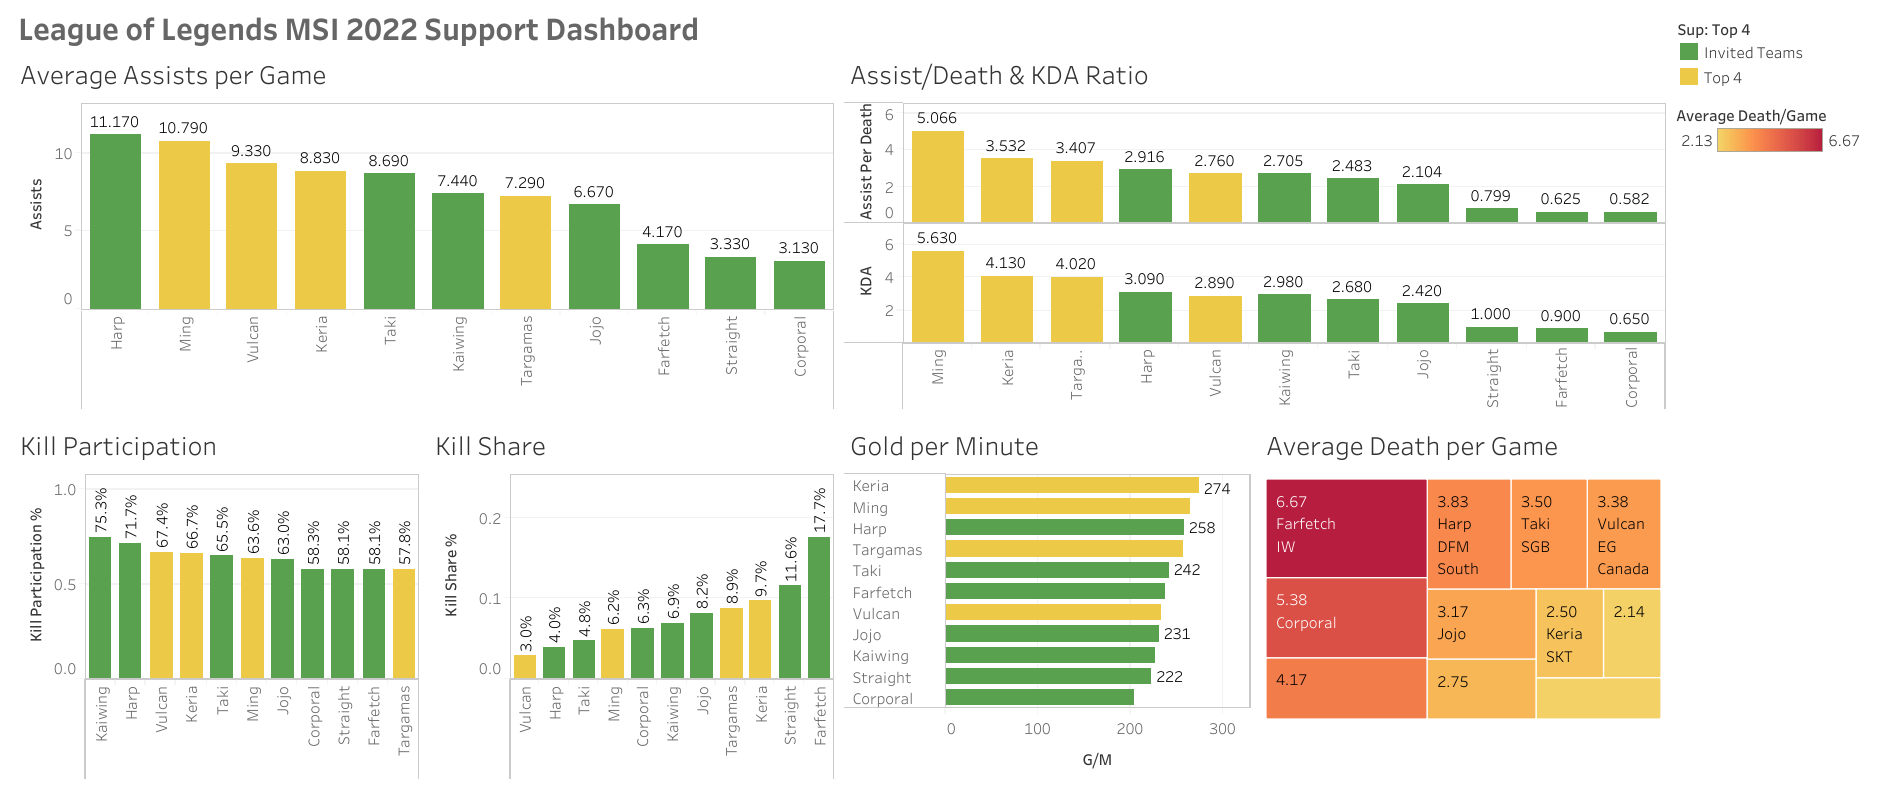

The page's visual inventory and layout, read from the dashboard file:
{"tool":"tableau","page":{"name":"MSI Support","canvas":[1000,1000],"units":"permille","ordinal":1},"visuals":[{"type":"text","box":[6.3,11.1,861.5,43.3]},{"type":"legend","title":"Sup: KillParticipation1","param":"[federated.0yose4p0djmgcf1cmg0zx1x8ghpd].[none:Calculation_1024287485059235845:n","box":[867.8,11.1,125.9,91.9]},{"type":"worksheet","title":"Sup: Assist","mark":"Automatic","rows":["A"],"cols":["Role","Name"],"box":[6.3,54.5,430.7,467.2]},{"type":"worksheet","title":"Sup: Assist per Death","mark":"Automatic","rows":["Calculation_1034702057401122816","KDA"],"cols":["Role","Name"],"box":[437,54.5,430.9,467.2]},{"type":"legend","title":"Sup: Avg Death","param":"[federated.0yose4p0djmgcf1cmg0zx1x8ghpd].[sum:D:qk]","box":[867.8,103.1,125.9,90.5]},{"type":"worksheet","title":"Sup: KillParticipation1","mark":"Automatic","rows":["KPAR"],"cols":["Role","Name"],"box":[6.3,521.6,215.3,467.2]},{"type":"worksheet","title":"Sup: Kill Share","mark":"Automatic","rows":["KS"],"cols":["Role","Name"],"box":[221.6,521.6,215.4,467.2]},{"type":"worksheet","title":"Sup: Avg GPM","mark":"Automatic","rows":["Role","Name"],"cols":["G/M"],"box":[437,521.6,215.4,467.2]},{"type":"worksheet","title":"Sup: Avg Death","mark":"Automatic","box":[652.4,521.6,215.4,467.2]}]}

Visuals, with their boxes on the dashboard's canvas, which has no fixed pixel size, in thousandths of its width and height (x1, y1, x2, y2). These are canvas units, not pixel positions in the 1880x794 screenshot, which may show the page scaled, cropped or inside an application window:
text: BBox(6, 11, 868, 54)
"Sup: KillParticipation1" legend: BBox(868, 11, 994, 103)
"Sup: Assist" worksheet: BBox(6, 54, 437, 522)
"Sup: Assist per Death" worksheet: BBox(437, 54, 868, 522)
"Sup: Avg Death" legend: BBox(868, 103, 994, 194)
"Sup: KillParticipation1" worksheet: BBox(6, 522, 222, 989)
"Sup: Kill Share" worksheet: BBox(222, 522, 437, 989)
"Sup: Avg GPM" worksheet: BBox(437, 522, 652, 989)
"Sup: Avg Death" worksheet: BBox(652, 522, 868, 989)
